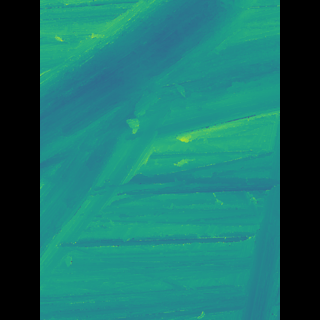Loch: (69, 0, 233, 287)
